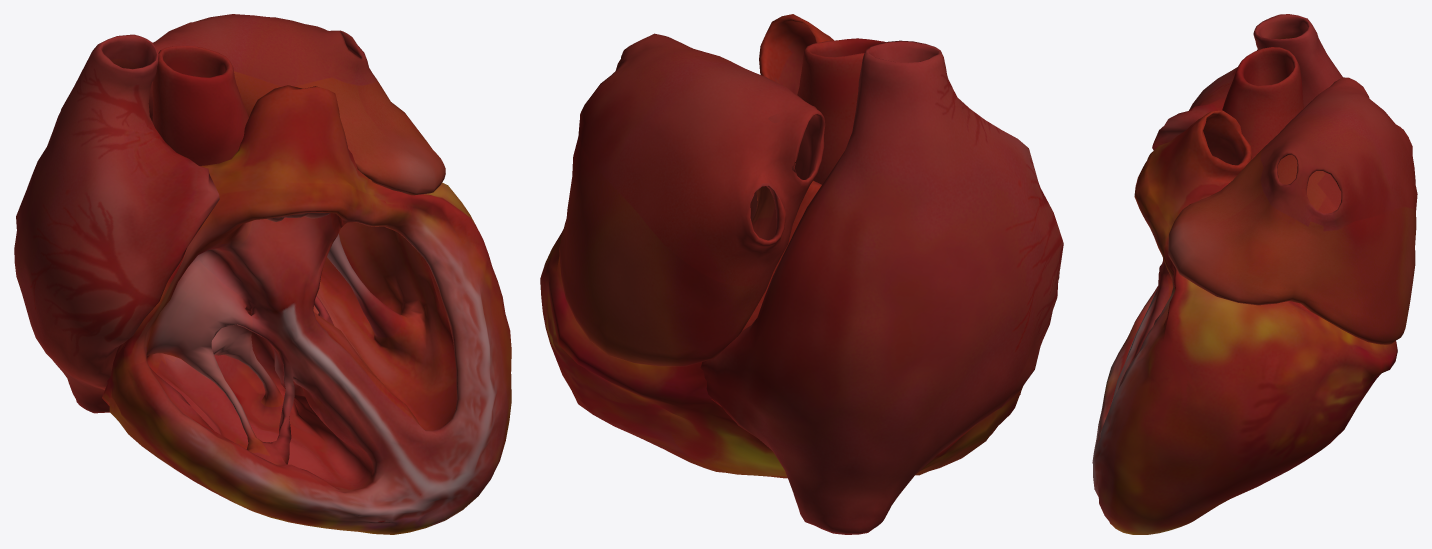
File: mitral-stenosis-heart.glb
3 renders of one model, left to right at view 1: azimuth 30°, elevation 25°; view 2: azimuth 150°, elevation 25°; view 3: azimuth 270°, elevation 25°, orthographic. The views are drawn at different scales.
Visible parts, largest first — view 1: Heart; view 2: Heart; view 3: Heart.
Boxes of the visible parts, bbox=[...] form: Heart: bbox=[14, 14, 511, 534]; Heart: bbox=[540, 14, 1063, 534]; Heart: bbox=[1092, 14, 1417, 534].
Size of the model in its own units: 0.5115 by 0.5385 by 0.3841.
3 materials, 3 textured.
